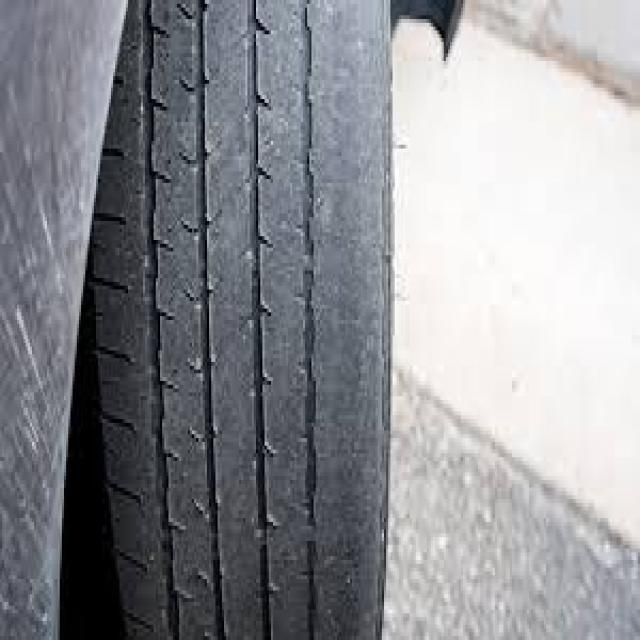Flat spots: (309, 1, 382, 640)
Non-defective: (128, 1, 225, 640)
